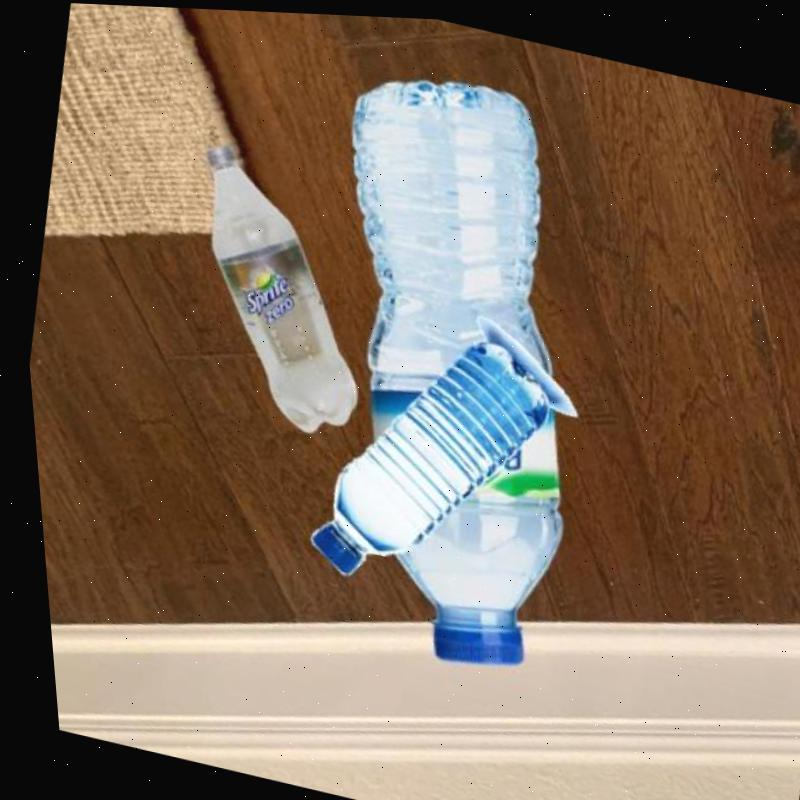botella: (243, 48, 646, 687), (282, 301, 568, 615), (153, 136, 397, 443)
